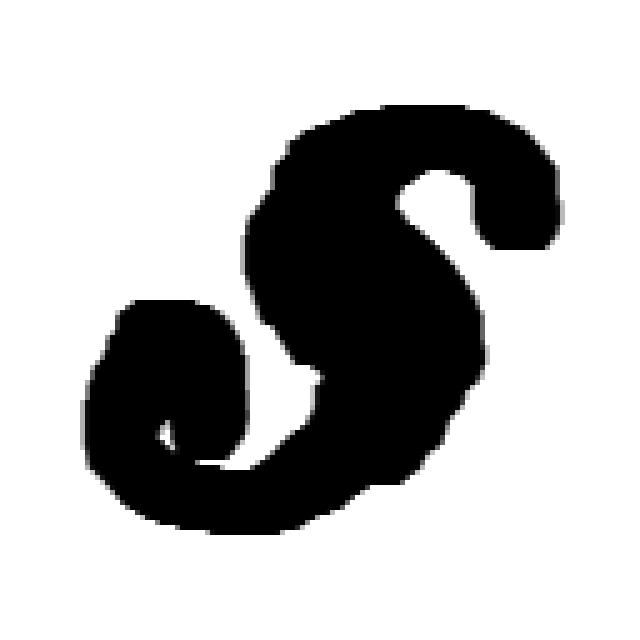S: (98, 102, 569, 526)
